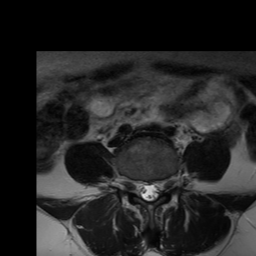CCS_normal: (145, 174, 153, 209)
LFS_normal: (161, 166, 169, 198)
LLS_normal: (153, 173, 161, 205)
RFS_normal: (130, 171, 138, 199)
RLS_normal: (138, 173, 145, 205)
